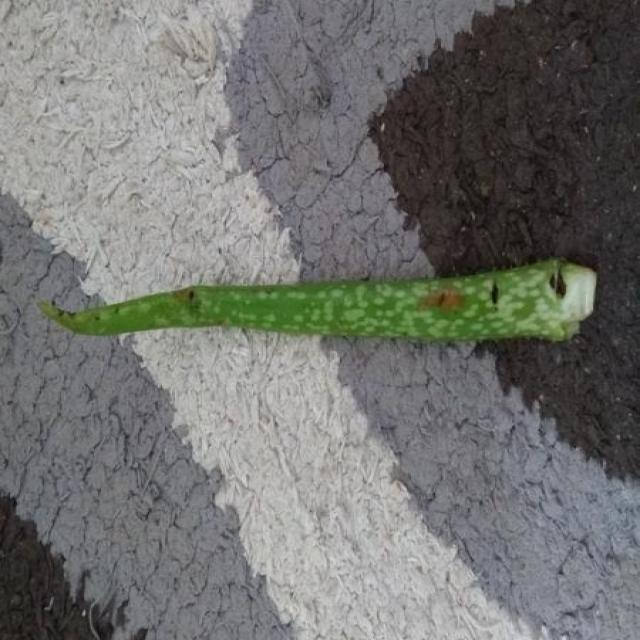alovera: (42, 259, 597, 341)
defectedalovera: (158, 259, 597, 341)
